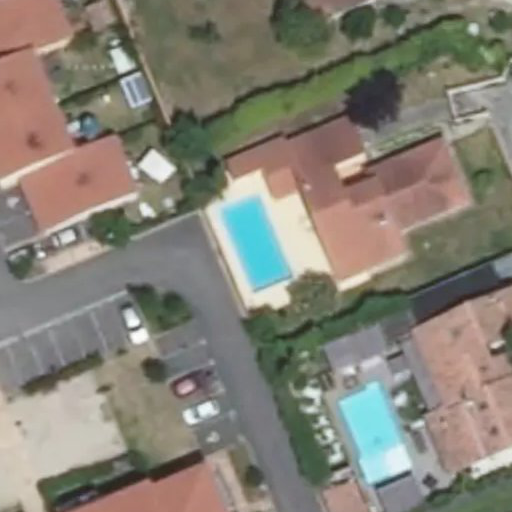pool: (216, 207, 295, 276)
